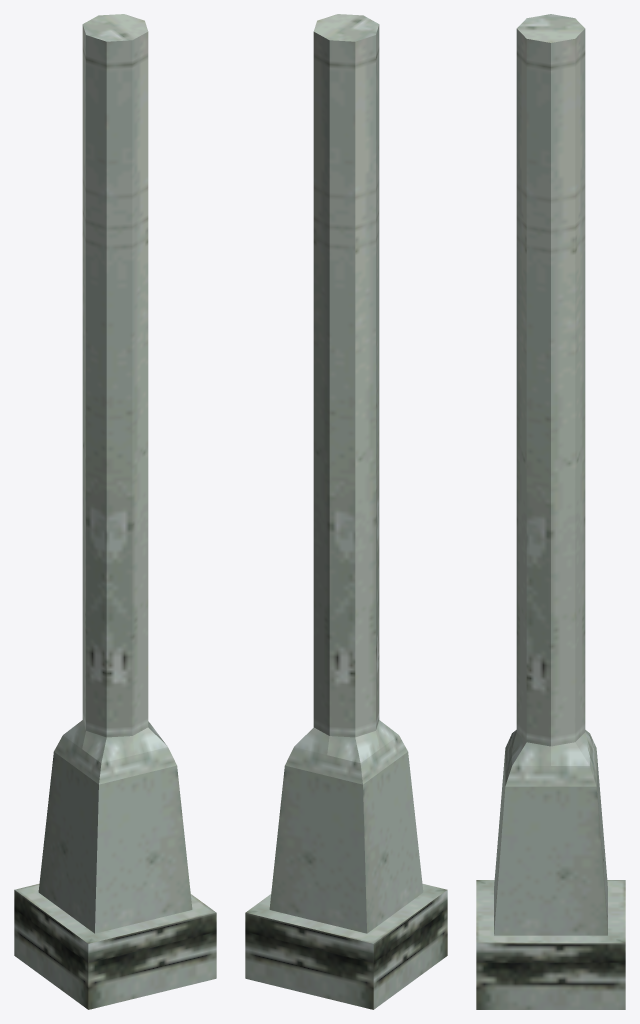
The model's file is traffic_light_pole.fbx.
The picture shows the model from 3 angles, left to right: view 1: azimuth 30°, elevation 25°; view 2: azimuth 150°, elevation 25°; view 3: azimuth 270°, elevation 25°; orthographic projection.
Parts seen in each view (by area): view 1: traffic_light_pole; view 2: traffic_light_pole; view 3: traffic_light_pole.
Boxes of the visible parts, box(x1,y1,x2,y2) form: traffic_light_pole: box(14, 14, 216, 1009); traffic_light_pole: box(245, 14, 447, 1009); traffic_light_pole: box(476, 14, 625, 1009).
Size of the model in its own units: 80.32 by 563 by 80.32.
1 material, 1 textured.
